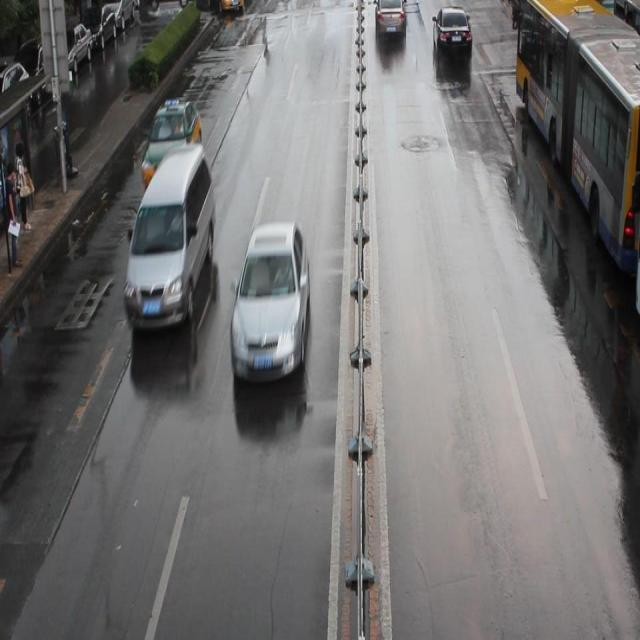car: (231, 223, 310, 379), (141, 100, 202, 193), (431, 8, 472, 61), (374, 1, 405, 38)
truck: (125, 142, 216, 326)
van: (513, 1, 640, 275), (632, 249, 640, 314)
